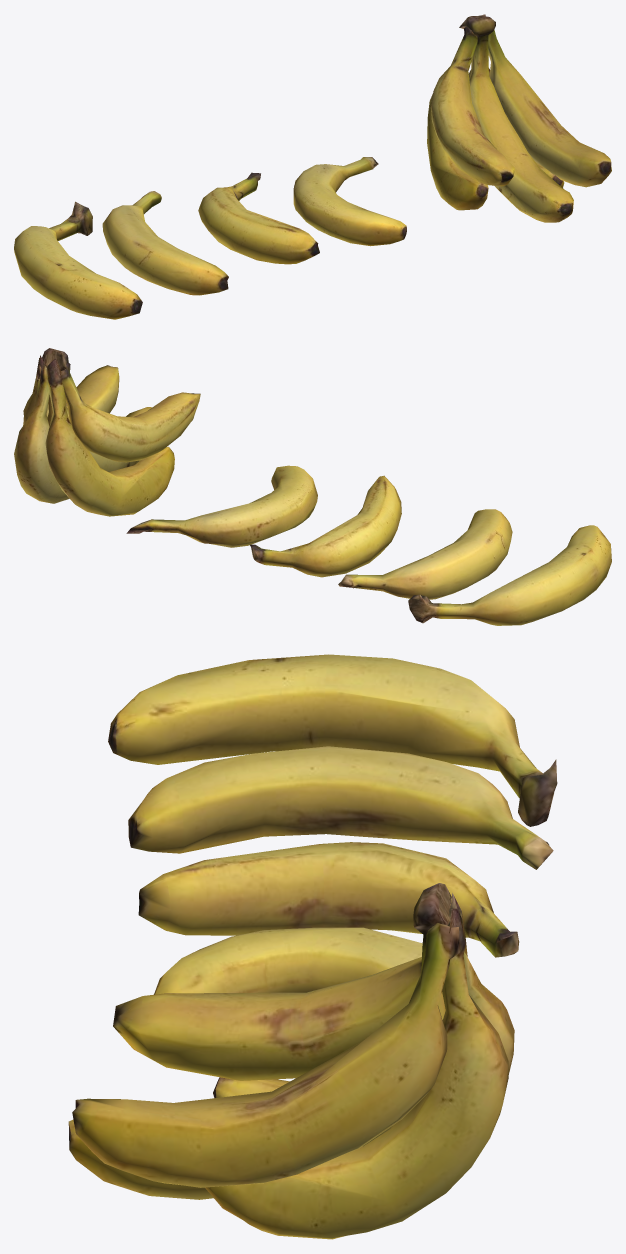
The model's file is bananas.gltf.
3 views of the same model, one above another, from view 1: azimuth 30°, elevation 25°; view 2: azimuth 150°, elevation 25°; view 3: azimuth 270°, elevation 25° (orthographic). The views are drawn at different scales.
Visible parts, largest first — view 1: bananas_bunch, bananas_d, bananas_c, bananas_b, bananas_a; view 2: bananas_bunch, bananas_d, bananas_c, bananas_a, bananas_b; view 3: bananas_bunch, bananas_d, bananas_c, bananas_b, bananas_a.
Part boxes in pixels (x1,y1,x2,y2): bananas_bunch: (427,14,611,222); bananas_d: (14,201,142,319); bananas_c: (102,191,228,295); bananas_b: (198,172,319,264); bananas_a: (293,157,406,246); bananas_bunch: (14,348,200,516); bananas_d: (408,525,611,625); bananas_c: (338,509,512,599); bananas_a: (126,465,317,547); bananas_b: (250,475,401,577); bananas_bunch: (68,883,514,1239); bananas_d: (108,654,557,826); bananas_c: (128,746,553,869); bananas_b: (138,842,519,957); bananas_a: (154,927,422,994).
Size of the model in its own units: 0.5998 by 0.1786 by 0.2415.
1 material, 1 textured.
